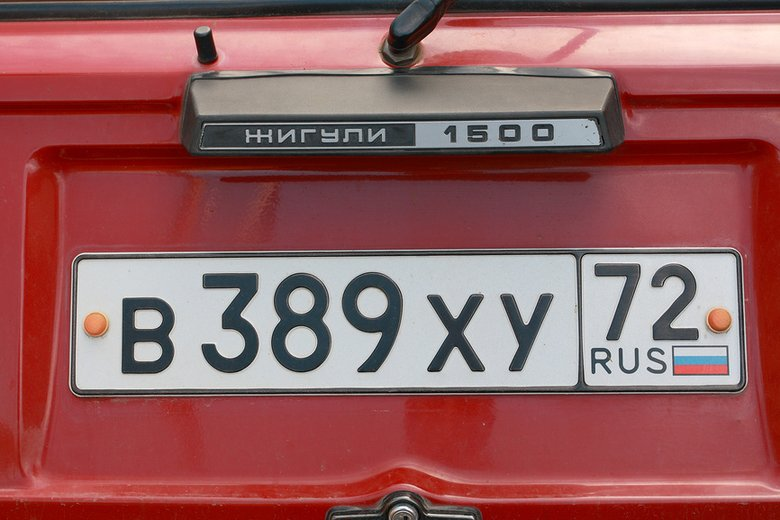number_plate: (73, 253, 743, 398)
